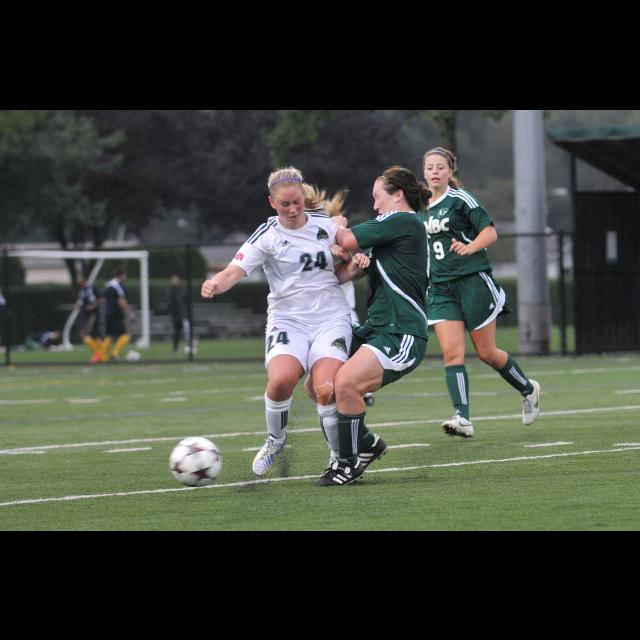Football: (168, 436, 220, 486)
